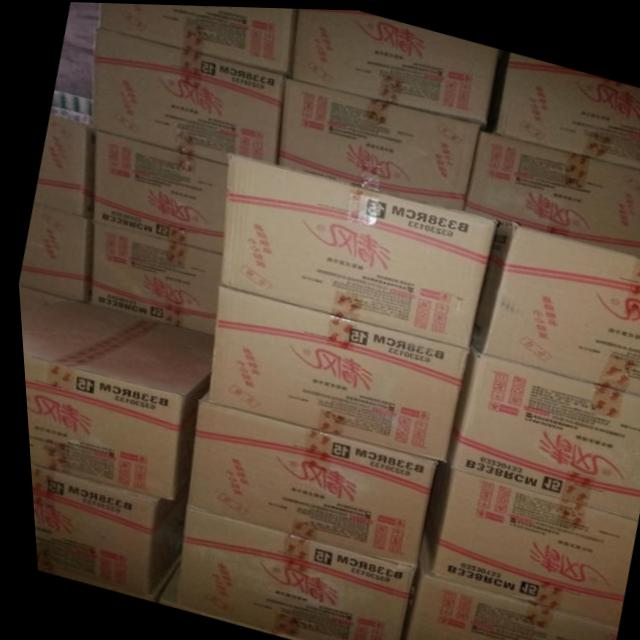box: (213, 149, 494, 345), (199, 284, 462, 461), (179, 397, 428, 564), (16, 298, 208, 501), (415, 461, 628, 623), (436, 346, 640, 515), (163, 504, 405, 640), (463, 220, 640, 393), (275, 75, 479, 209), (89, 28, 285, 163), (290, 7, 500, 122), (391, 532, 609, 640), (460, 127, 640, 253), (24, 462, 179, 600), (491, 48, 640, 165), (89, 130, 225, 252), (85, 221, 219, 334), (95, 2, 295, 72), (15, 202, 90, 304), (31, 116, 94, 217)
